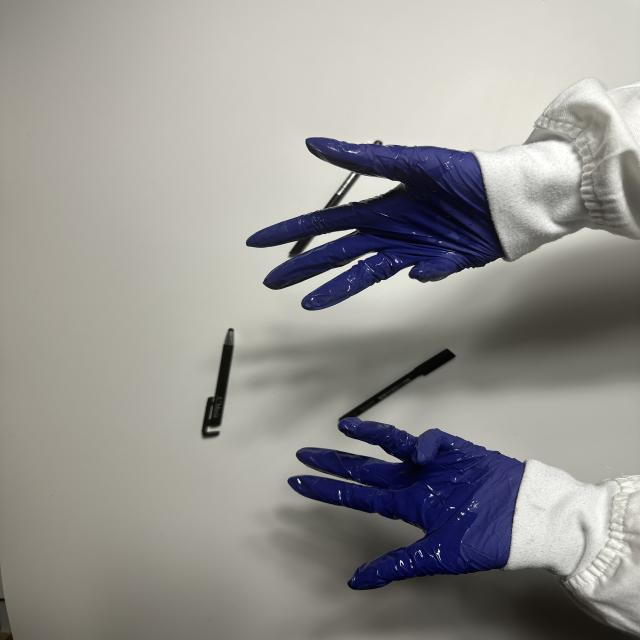gloves_contaminated: (247, 138, 505, 310), (288, 418, 524, 590)
